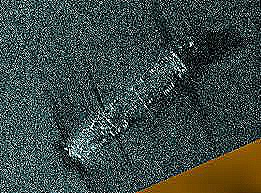ship: (62, 48, 189, 168)
